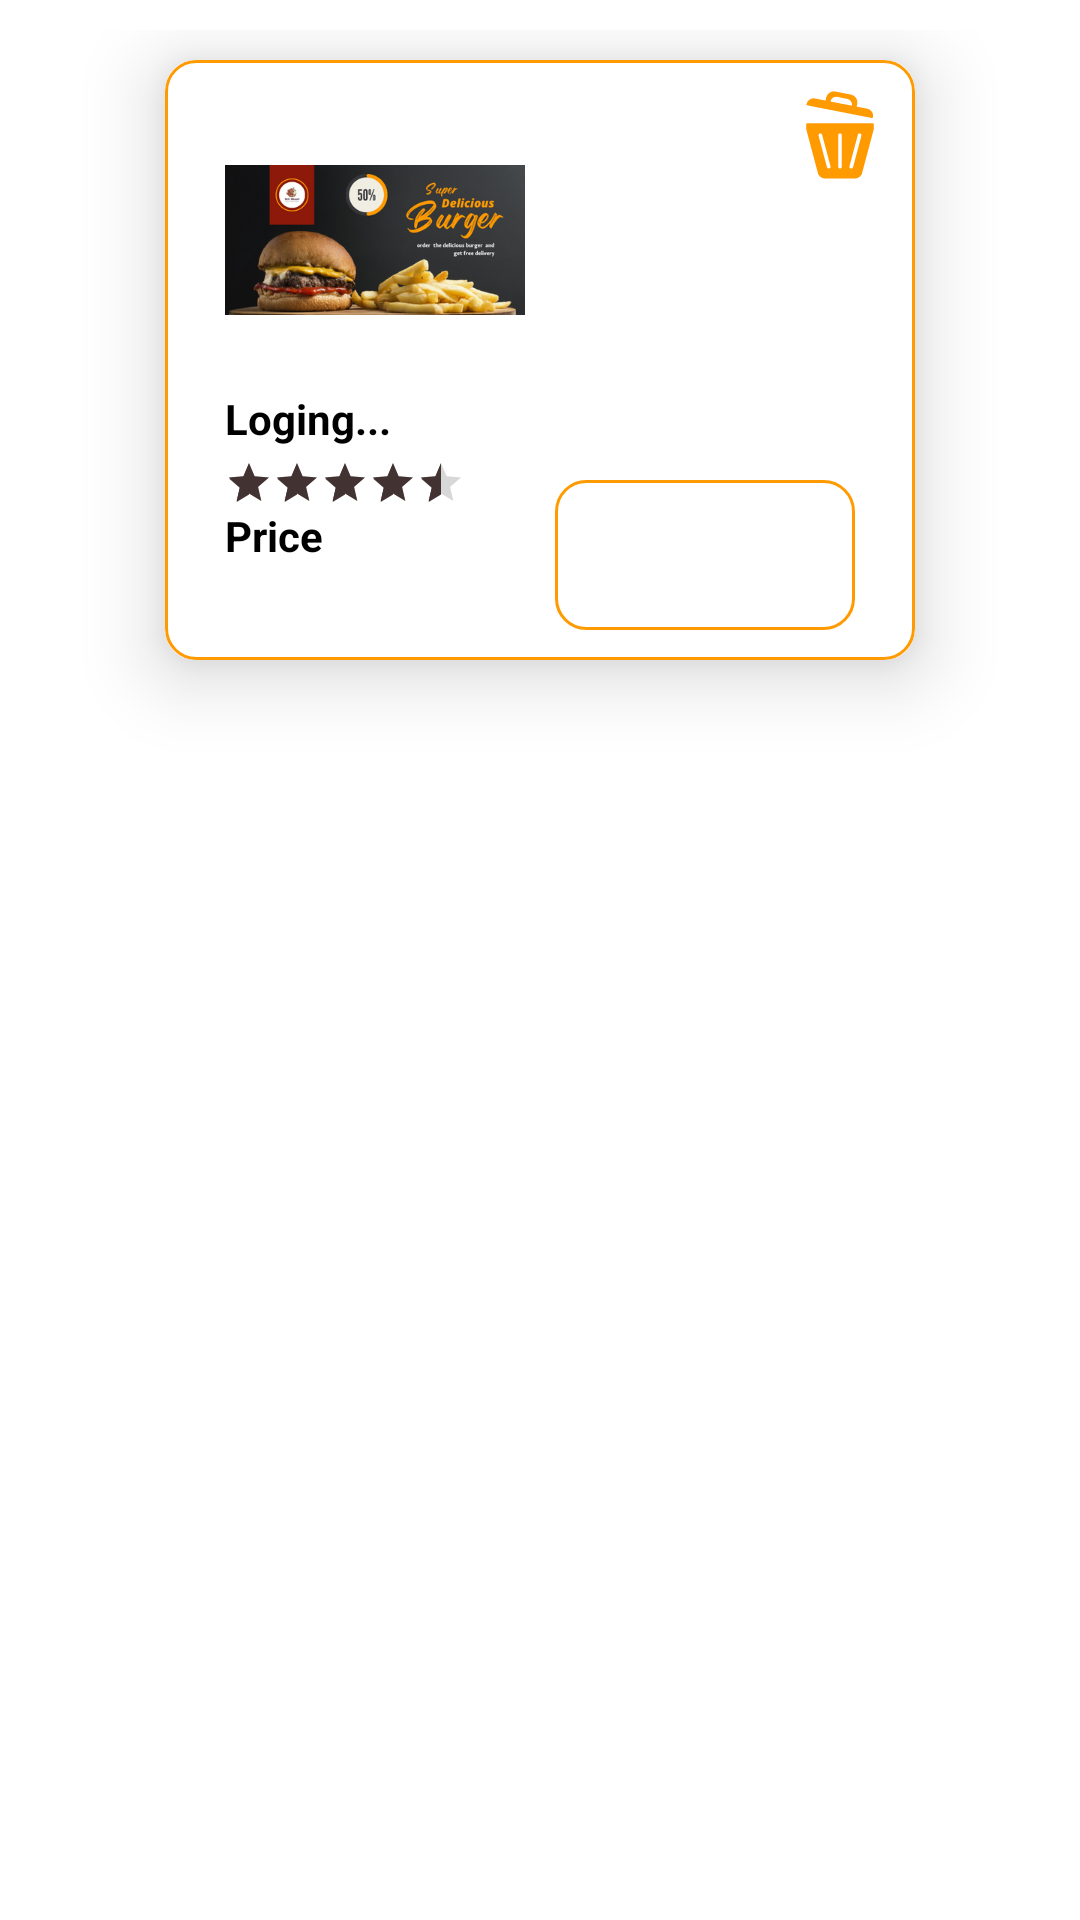

Locate icon controls on the screen. Image size 1080 x 1920, boxes as bbox(x1, y1, x2, y2).
delete: bbox(806, 91, 874, 179)
